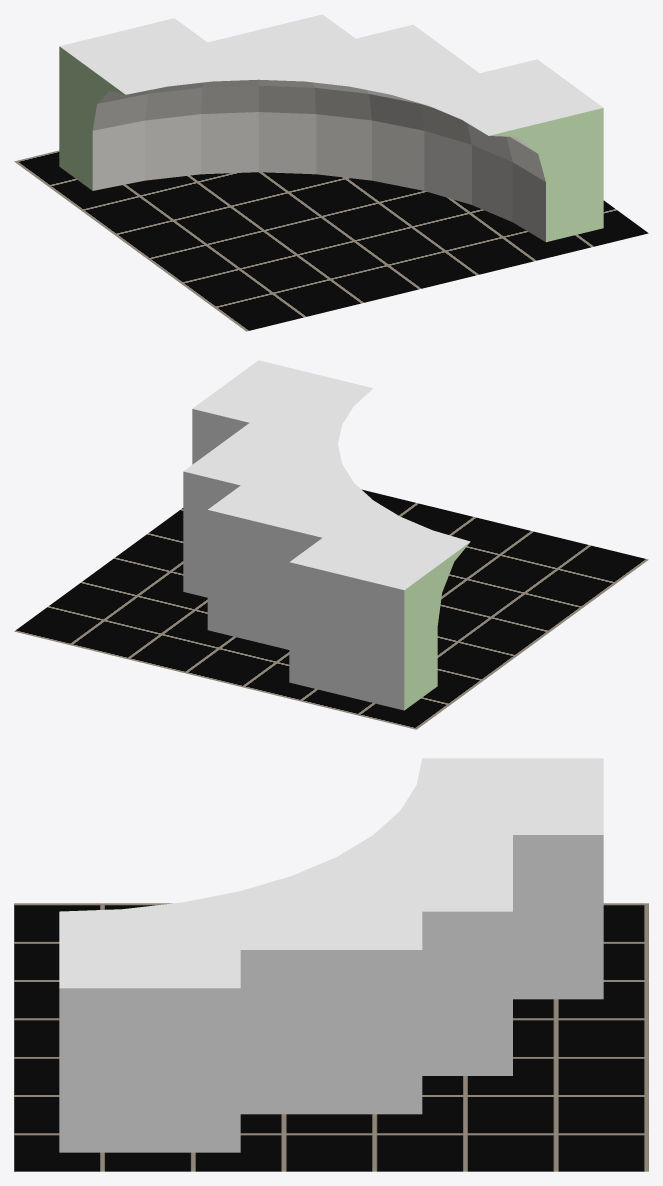
File: Wall_Curve_Inner_6x6_Top.glb
The picture shows the model from 3 angles, top to bottom: view 1: azimuth 30°, elevation 25°; view 2: azimuth 150°, elevation 25°; view 3: azimuth 270°, elevation 25°; orthographic projection. The views are drawn at different scales.
Parts seen in each view (by area): view 1: Wall_Curve_Inner_6x6_Top, Floor; view 2: Wall_Curve_Inner_6x6_Top, Floor; view 3: Wall_Curve_Inner_6x6_Top, Floor.
Boxes of the visible parts, x1,y1,x2,y2 form: Wall_Curve_Inner_6x6_Top: (59, 14, 603, 242); Floor: (14, 150, 648, 331); Wall_Curve_Inner_6x6_Top: (183, 360, 470, 710); Floor: (14, 489, 648, 729); Wall_Curve_Inner_6x6_Top: (59, 758, 603, 1152); Floor: (14, 903, 648, 1171).
Size of the model in its own units: 700 by 200 by 700.
Materials: 5 (1 with a texture image).
